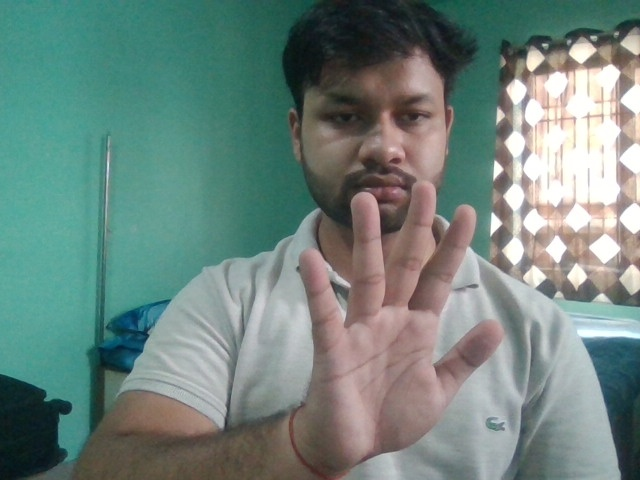Hello: (297, 181, 504, 468)
